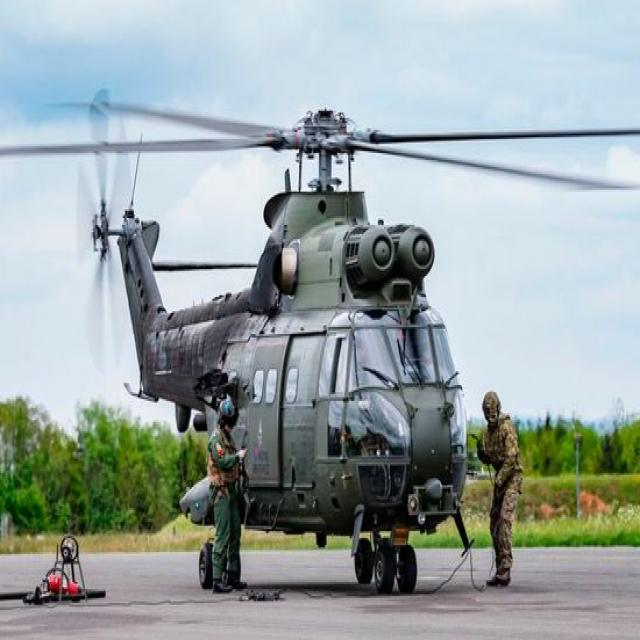helicopter: (1, 89, 640, 604)
